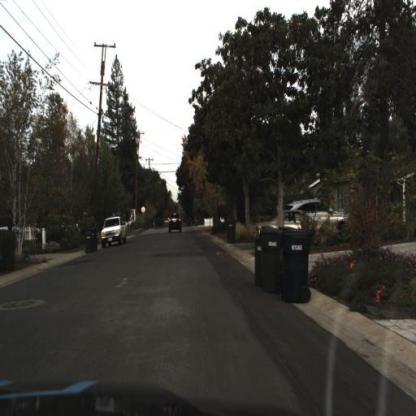car: (251, 209, 322, 242), (256, 213, 327, 240), (291, 196, 355, 225), (289, 197, 349, 224), (98, 211, 129, 253), (99, 215, 130, 250), (168, 211, 184, 236)
